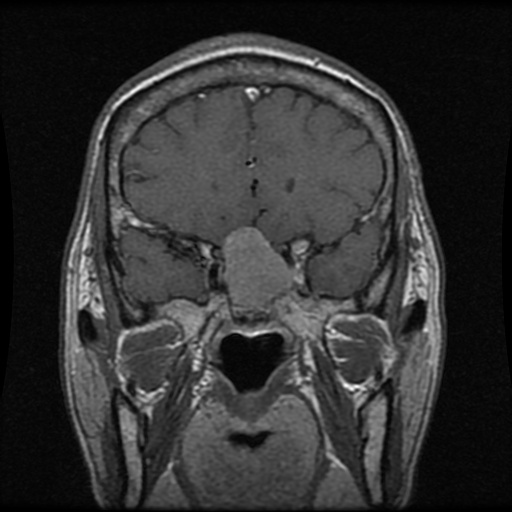pituitary: (226, 227, 295, 305)
